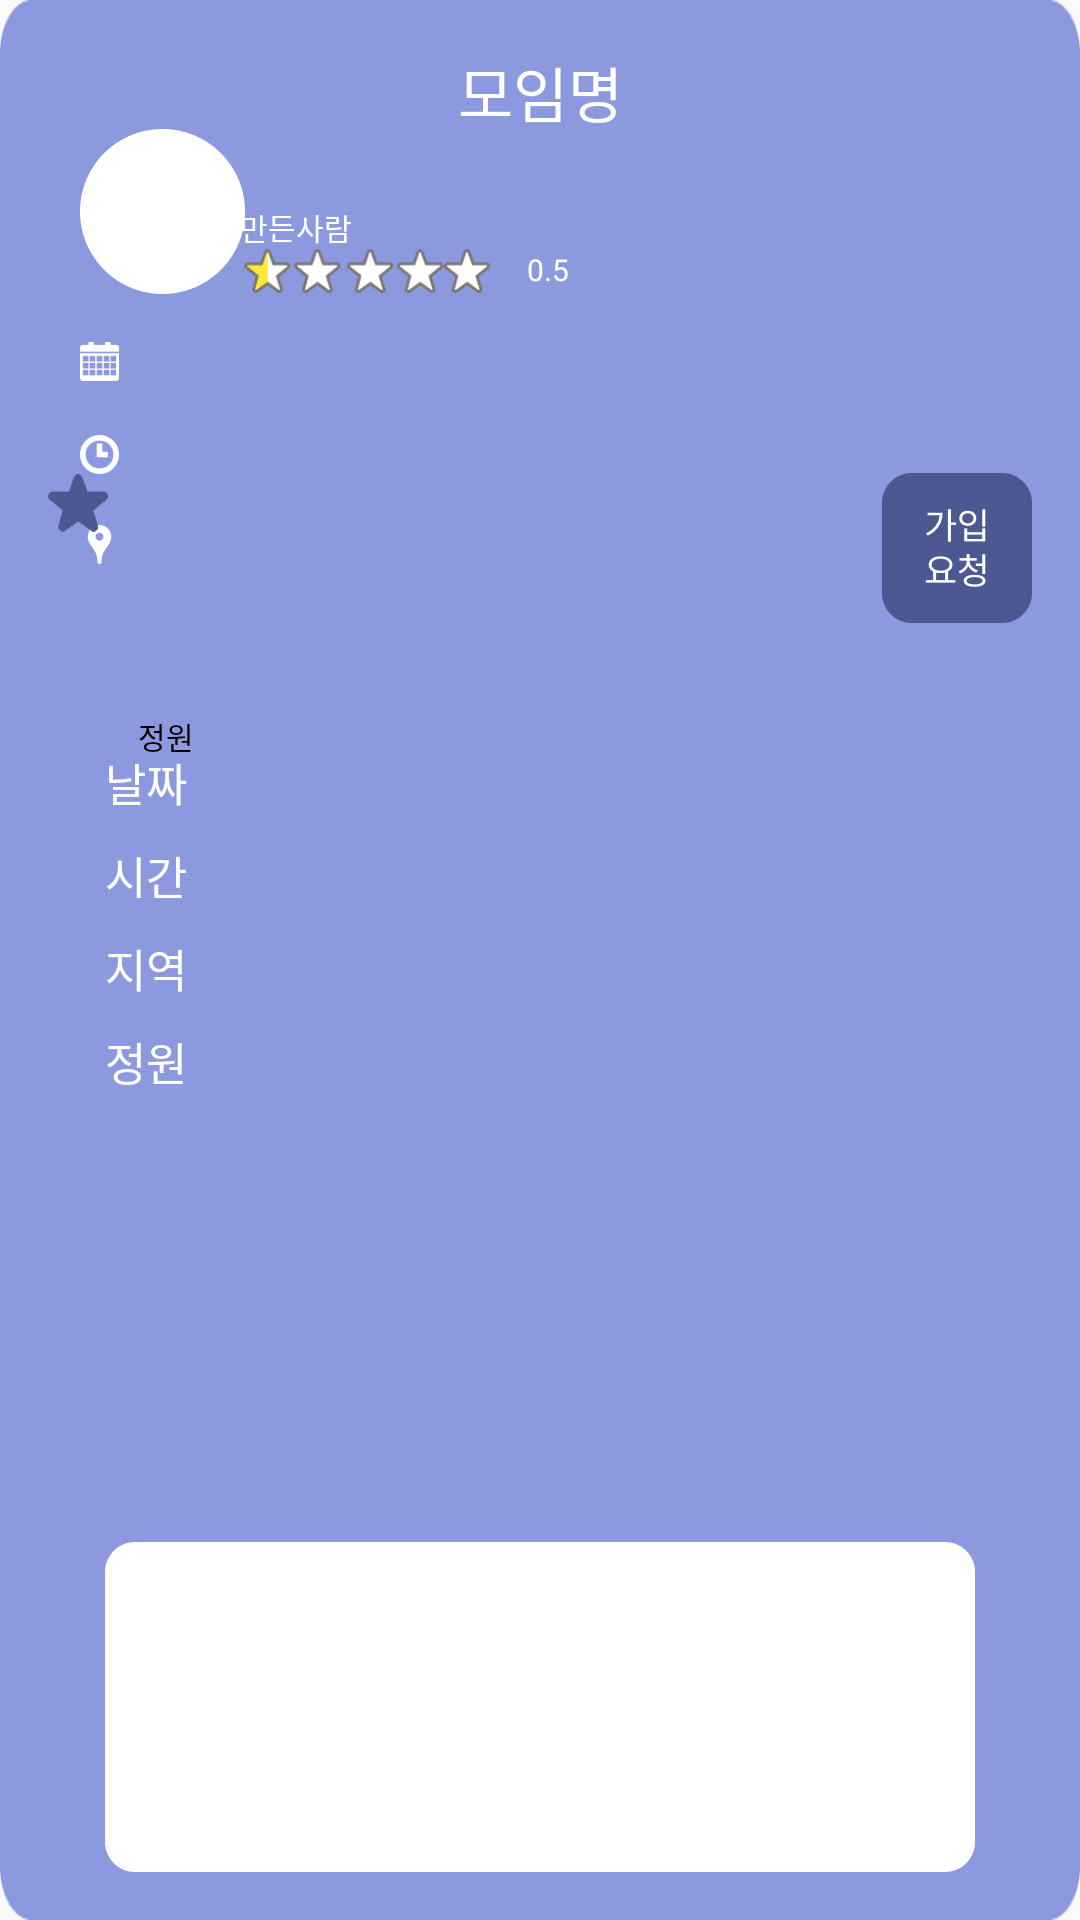

Icons on this 1080*1920 Android screen, each with the point to tap as (x,y):
makegroup cal: (99,361)
makegroup gps: (98,544)
makegroup time: (99,454)
top bookmark: (78,503)
